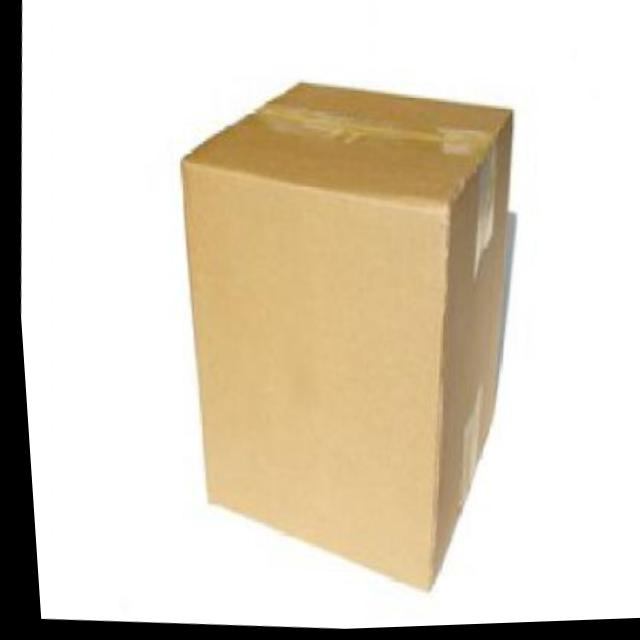box: (119, 48, 562, 623)
